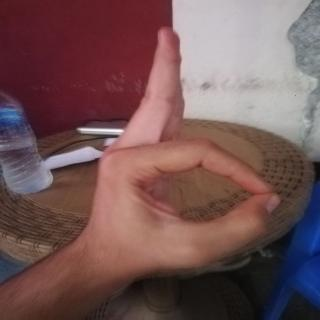Space: (87, 22, 289, 272)
